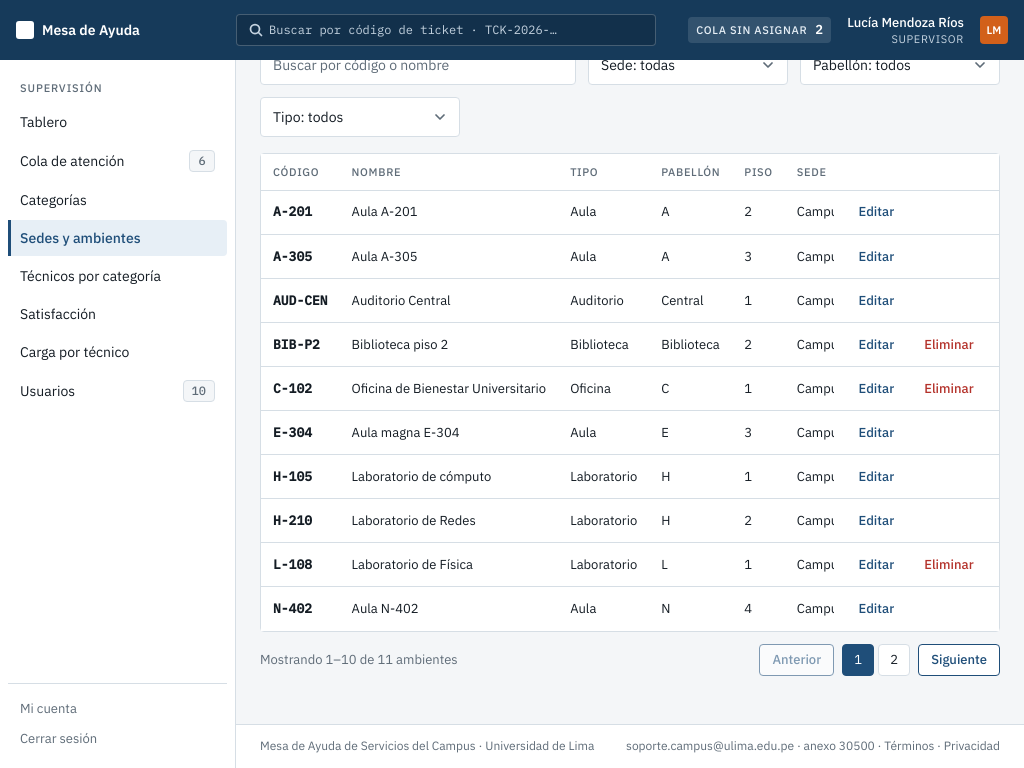
Test: UbicacionesPage · ambientes › muestra los ambientes con su ubicación, capacidad y tickets en curso, de 10 en 10
(page scrolled)
expect the text "Cola sin asignar" is shown: met, box [696,22,807,38]
expect the text "Mostrando 1–10 de 11 ambientes" is shown: met, box [260,650,458,668]
Click the button named "Página 2". click: point(894, 660)
box: [878,644,910,676]
(page scrolled)
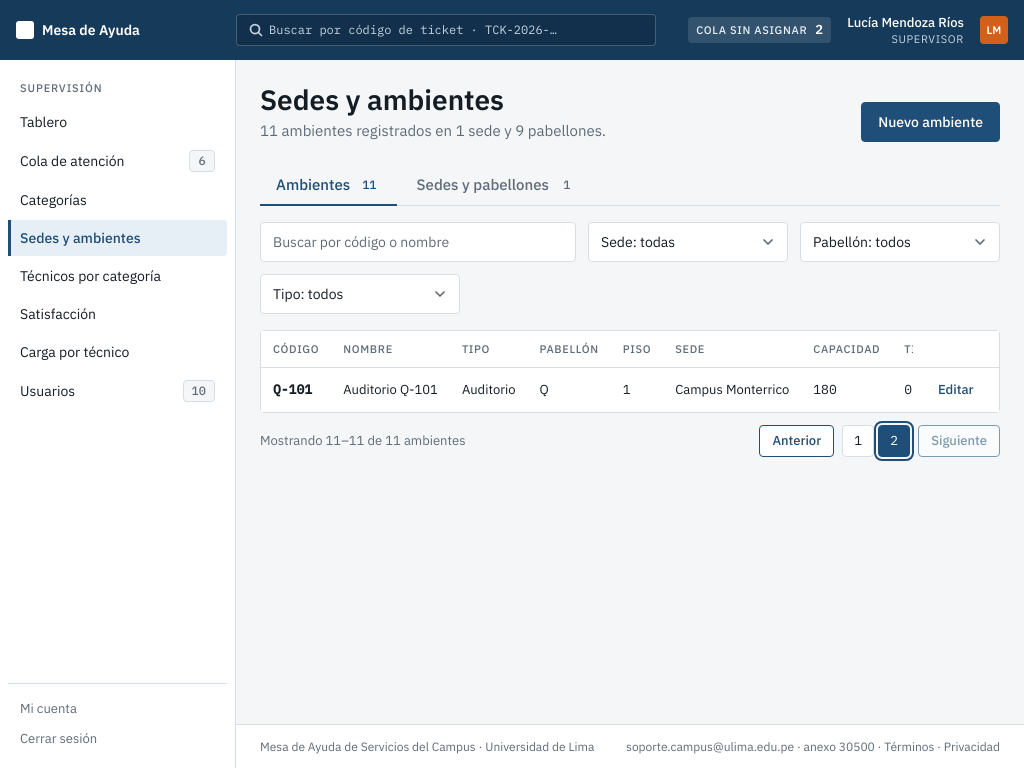
expect the text "Mostrando 11–11 de 11 ambientes" is shown: met, box [260,432,466,450]
expect the button "Siguiente" is disabled: met, box [918,424,1000,456]
